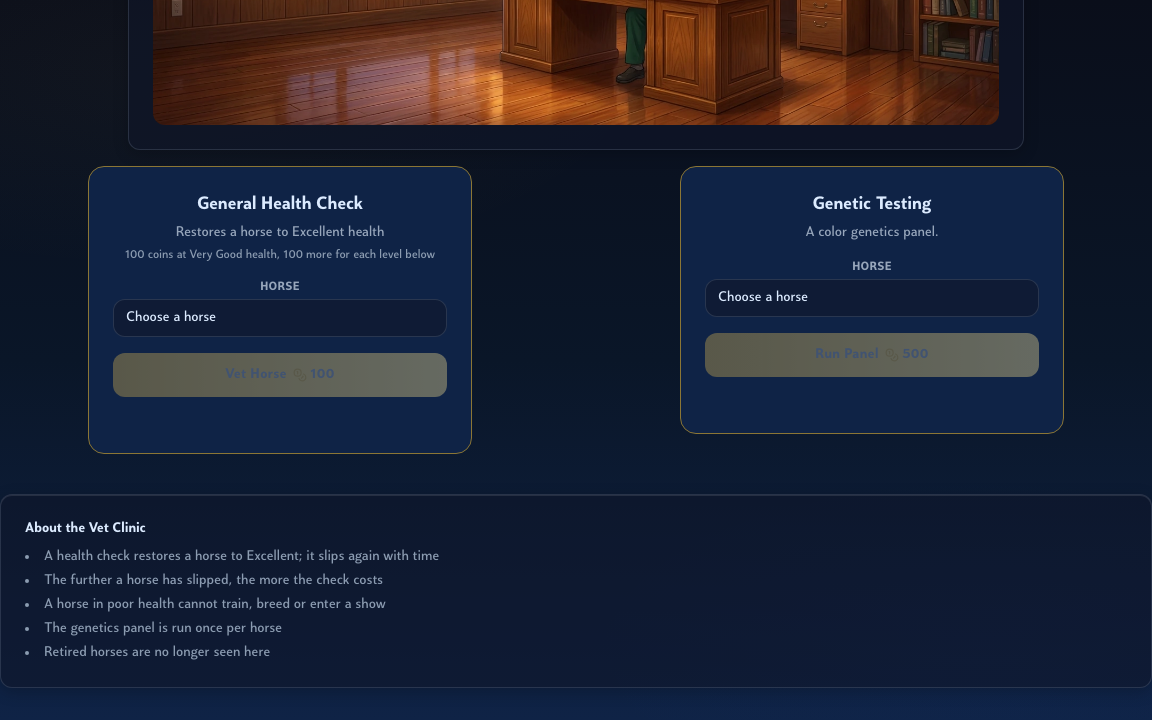
Scenario: VeterinarianPage (Equoria-7dmzp) › tells the player to feed a vetted horse that is still unwell from hunger
This screenshot has width=1152, height=720.
(page scrolled)
Step 1. Select "Due Mare (Bad)" in the dropdown labelled "Horse" below "Restores a horse to Excellent health" → (280, 318), box [113,299,447,337]
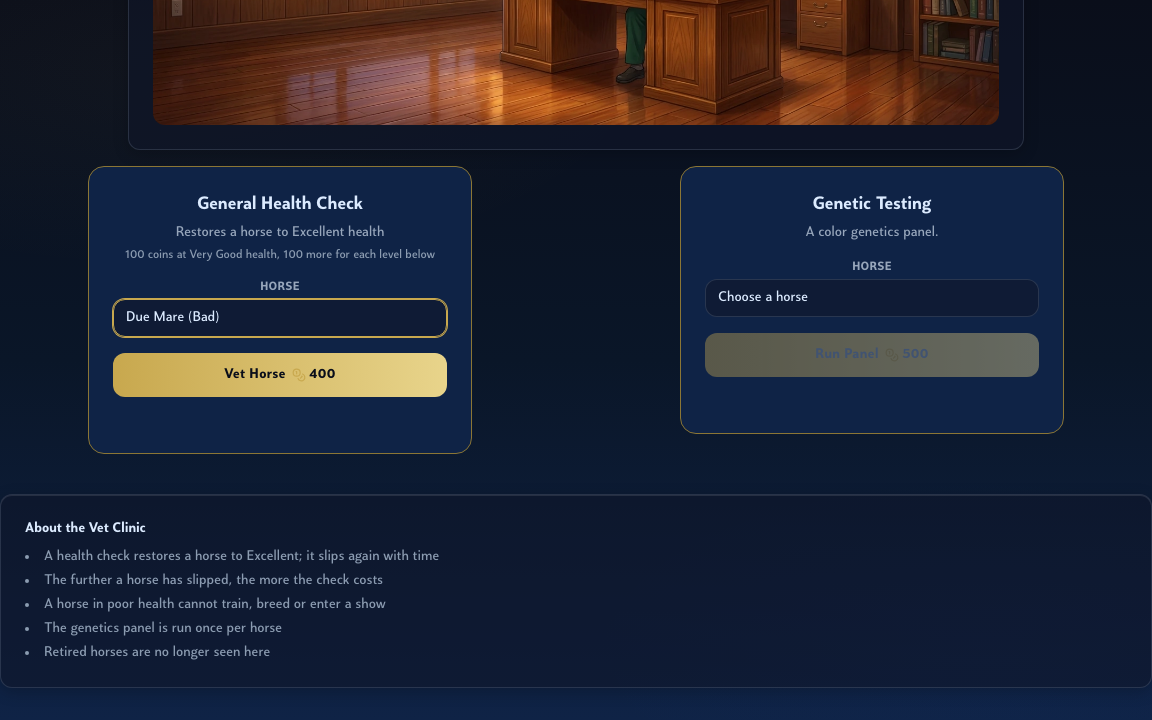
Step 2. Click the button "Vet Horse 400" → (280, 375), box [113,353,447,397]
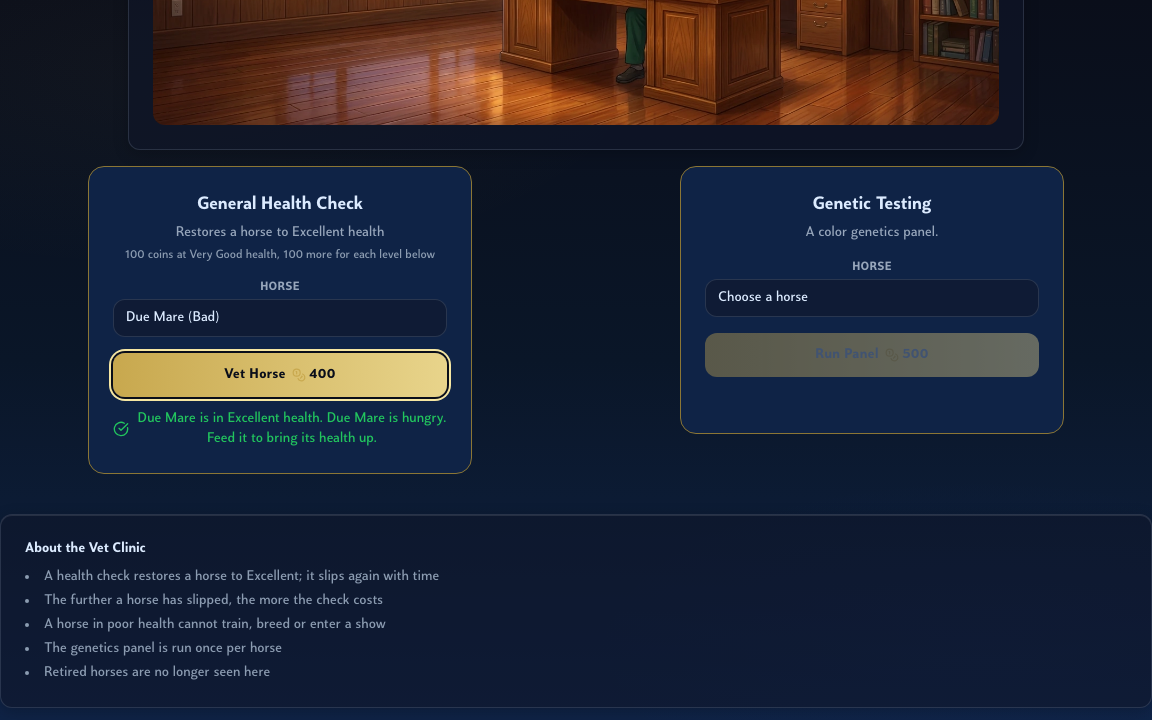
Result: the text "Due Mare is hungry. Feed it to bring its health up." is shown at [138,411,446,446]
